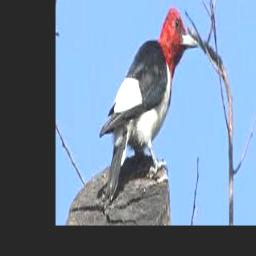Woodpecker: (100, 7, 199, 200)
